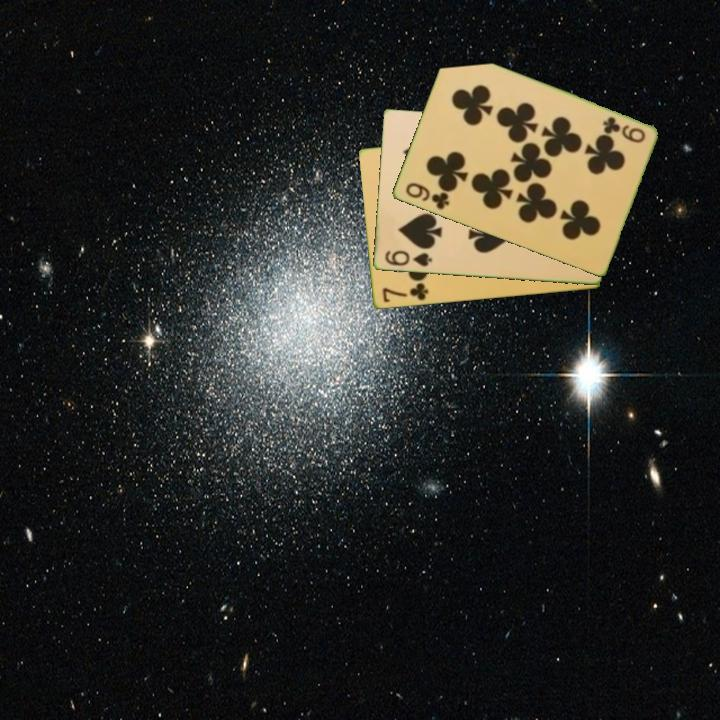6s: (381, 247, 435, 269)
7c: (379, 279, 431, 306)
9c: (401, 179, 452, 213), (599, 113, 648, 146)
